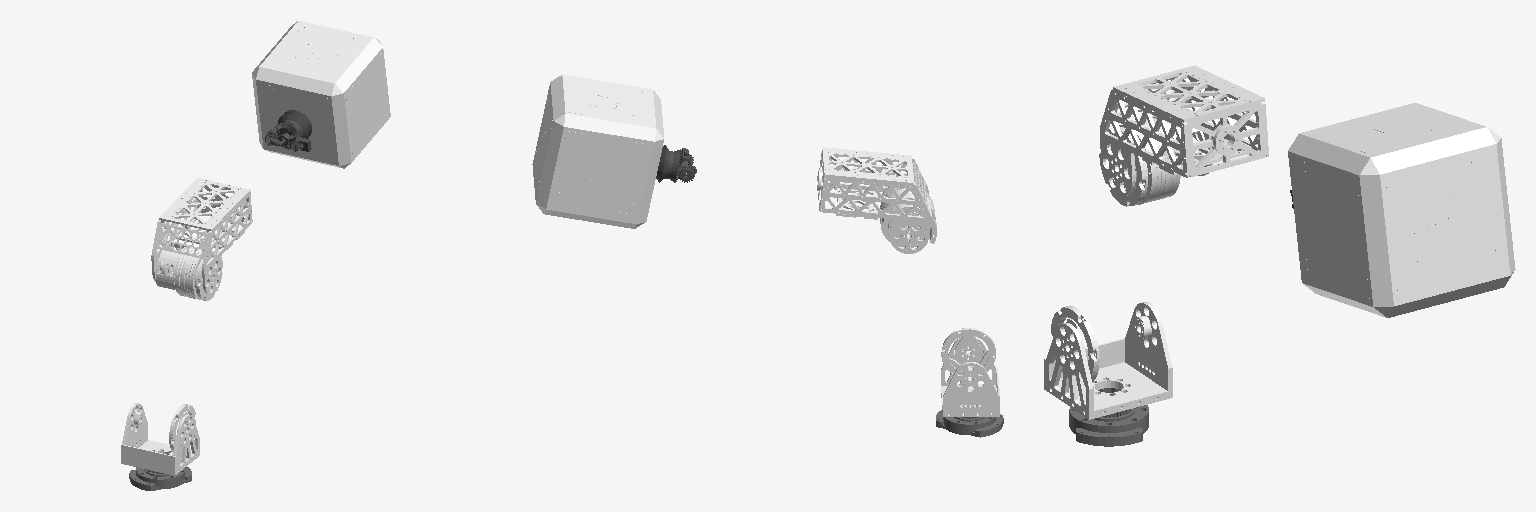
The robot description file, URDF, robot "tjurm_arm_won":
<?xml version="1.0" encoding="utf-8"?>
<!-- This URDF was automatically created by SolidWorks to URDF Exporter! Originally created by [author] ([email redacted]) 
     Commit Version: 1.6.0-4-g7f85cfe  Build Version: 1.6.7995.38578
     For more information, please see http://wiki.ros.org/sw_urdf_exporter -->
<robot
  name="tjurm_arm_won">
  <link
    name="base_link">
    <inertial>
      <origin
        xyz="0.00011022 0.00053417 0.012164"
        rpy="0 0 0" />
      <mass
        value="0.24508" />
      <inertia
        ixx="0.00014956"
        ixy="1.7088E-07"
        ixz="1.25E-09"
        iyy="0.00027306"
        iyz="5.4586E-08"
        izz="0.00041592" />
    </inertial>
    <visual>
      <origin
        xyz="0 0 0"
        rpy="0 0 0" />
      <geometry>
        <mesh
          filename="package://tjurm_arm_won/meshes/base_link.STL" />
      </geometry>
      <material
        name="">
        <color
          rgba="0.50196 0.50196 0.50196 1" />
      </material>
    </visual>
    <collision>
      <origin
        xyz="0 0 0"
        rpy="0 0 0" />
      <geometry>
        <mesh
          filename="package://tjurm_arm_won/meshes/base_link.STL" />
      </geometry>
    </collision>
  </link>
  <link
    name="link1">
    <inertial>
      <origin
        xyz="-0.0015821 -0.0046198 -0.046525"
        rpy="0 0 0" />
      <mass
        value="0.4841" />
      <inertia
        ixx="0.00043317"
        ixy="-3.8728E-08"
        ixz="-7.3882E-08"
        iyy="0.00053999"
        iyz="-1.9596E-07"
        izz="0.00062525" />
    </inertial>
    <visual>
      <origin
        xyz="0 0 0"
        rpy="0 0 0" />
      <geometry>
        <mesh
          filename="package://tjurm_arm_won/meshes/link1.STL" />
      </geometry>
      <material
        name="">
        <color
          rgba="1 1 1 1" />
      </material>
    </visual>
    <collision>
      <origin
        xyz="0 0 0"
        rpy="0 0 0" />
      <geometry>
        <mesh
          filename="package://tjurm_arm_won/meshes/link1.STL" />
      </geometry>
    </collision>
  </link>
  <joint
    name="joint1"
    type="revolute">
    <origin
      xyz="0 0 0.116"
      rpy="0 0 0.55928" />
    <parent
      link="base_link" />
    <child
      link="link1" />
    <axis
      xyz="0 0 1" />
    <limit
      lower="-3.14"
      upper="3.14"
      effort="100"
      velocity="1" />
  </joint>
  <link
    name="link2">
    <inertial>
      <origin
        xyz="0.036572 -0.088845 -0.0047651"
        rpy="0 0 0" />
      <mass
        value="0.96792" />
      <inertia
        ixx="0.0042639"
        ixy="0.0013774"
        ixz="-3.3091E-08"
        iyy="0.0012653"
        iyz="2.0765E-07"
        izz="0.0051304" />
    </inertial>
    <visual>
      <origin
        xyz="0 0 0"
        rpy="0 0 0" />
      <geometry>
        <mesh
          filename="package://tjurm_arm_won/meshes/link2.STL" />
      </geometry>
      <material
        name="">
        <color
          rgba="1 1 1 1" />
      </material>
    </visual>
    <collision>
      <origin
        xyz="0 0 0"
        rpy="0 0 0" />
      <geometry>
        <mesh
          filename="package://tjurm_arm_won/meshes/link2.STL" />
      </geometry>
    </collision>
  </link>
  <joint
    name="joint2"
    type="revolute">
    <origin
      xyz="0 0 0"
      rpy="-1.5708 0 0" />
    <parent
      link="link1" />
    <child
      link="link2" />
    <axis
      xyz="0 0 1" />
    <limit
      lower="-3.14"
      upper="3.14"
      effort="100"
      velocity="1" />
  </joint>
  <link
    name="link3">
    <inertial>
      <origin
        xyz="0.48342 0.20024 0.010212"
        rpy="0 0 0" />
      <mass
        value="33.889" />
      <inertia
        ixx="0.35951"
        ixy="-0.11908"
        ixz="9.1541E-08"
        iyy="0.46039"
        iyz="3.62E-07"
        izz="0.56671" />
    </inertial>
    <visual>
      <origin
        xyz="0 0 0"
        rpy="0 0 0" />
      <geometry>
        <mesh
          filename="package://tjurm_arm_won/meshes/link3.STL" />
      </geometry>
      <material
        name="">
        <color
          rgba="1 1 1 1" />
      </material>
    </visual>
    <collision>
      <origin
        xyz="0 0 0"
        rpy="0 0 0" />
      <geometry>
        <mesh
          filename="package://tjurm_arm_won/meshes/link3.STL" />
      </geometry>
    </collision>
  </link>
  <joint
    name="joint3"
    type="revolute">
    <origin
      xyz="0.10898 -0.2795 0"
      rpy="0 0 -1.5708" />
    <parent
      link="link2" />
    <child
      link="link3" />
    <axis
      xyz="0 0 1" />
    <limit
      lower="-3.14"
      upper="3.14"
      effort="100"
      velocity="1" />
  </joint>
  <link
    name="link4">
    <inertial>
      <origin
        xyz="0.010237 0.0017188 -0.14273"
        rpy="0 0 0" />
      <mass
        value="0.68146" />
      <inertia
        ixx="0.0014334"
        ixy="1.0724E-07"
        ixz="7.9375E-05"
        iyy="0.0014255"
        iyz="-2.4467E-07"
        izz="0.00033848" />
    </inertial>
    <visual>
      <origin
        xyz="0 0 0"
        rpy="0 0 0" />
      <geometry>
        <mesh
          filename="package://tjurm_arm_won/meshes/link4.STL" />
      </geometry>
      <material
        name="">
        <color
          rgba="1 1 1 1" />
      </material>
    </visual>
    <collision>
      <origin
        xyz="0 0 0"
        rpy="0 0 0" />
      <geometry>
        <mesh
          filename="package://tjurm_arm_won/meshes/link4.STL" />
      </geometry>
    </collision>
  </link>
  <joint
    name="joint4"
    type="revolute">
    <origin
      xyz="0.11398 0.39403 0"
      rpy="-1.5708 0 -0.19427" />
    <parent
      link="link3" />
    <child
      link="link4" />
    <axis
      xyz="0 0 1" />
    <limit
      lower="-3.14"
      upper="3.14"
      effort="100"
      velocity="1" />
  </joint>
  <link
    name="link5">
    <inertial>
      <origin
        xyz="2.931E-05 -0.0271 0.002163"
        rpy="0 0 0" />
      <mass
        value="0.29207" />
      <inertia
        ixx="7.0217E-05"
        ixy="-5.6893E-08"
        ixz="1.7329E-08"
        iyy="0.00011046"
        iyz="7.4078E-08"
        izz="6.7984E-05" />
    </inertial>
    <visual>
      <origin
        xyz="0 0 0"
        rpy="0 0 0" />
      <geometry>
        <mesh
          filename="package://tjurm_arm_won/meshes/link5.STL" />
      </geometry>
      <material
        name="">
        <color
          rgba="0.37255 0.37255 0.37255 1" />
      </material>
    </visual>
    <collision>
      <origin
        xyz="0 0 0"
        rpy="0 0 0" />
      <geometry>
        <mesh
          filename="package://tjurm_arm_won/meshes/link5.STL" />
      </geometry>
    </collision>
  </link>
  <joint
    name="joint5"
    type="revolute">
    <origin
      xyz="0 0 0"
      rpy="-1.5708 0 0" />
    <parent
      link="link4" />
    <child
      link="link5" />
    <axis
      xyz="0 0 1" />
    <limit
      lower="-3.14"
      upper="3.14"
      effort="100"
      velocity="1" />
  </joint>
  <link
    name="link6">
    <inertial>
      <origin
        xyz="0.0029253 4.8597E-05 0.11575"
        rpy="0 0 0" />
      <mass
        value="7.6366" />
      <inertia
        ixx="0.048445"
        ixy="-9.6208E-11"
        ixz="1.3674E-06"
        iyy="0.048461"
        iyz="-2.3383E-08"
        izz="0.048449" />
    </inertial>
    <visual>
      <origin
        xyz="0 0 0"
        rpy="0 0 0" />
      <geometry>
        <mesh
          filename="package://tjurm_arm_won/meshes/link6.STL" />
      </geometry>
      <material
        name="">
        <color
          rgba="1 1 1 1" />
      </material>
    </visual>
    <collision>
      <origin
        xyz="0 0 0"
        rpy="0 0 0" />
      <geometry>
        <mesh
          filename="package://tjurm_arm_won/meshes/link6.STL" />
      </geometry>
    </collision>
  </link>
  <joint
    name="joint6"
    type="revolute">
    <origin
      xyz="0 -0.042454 0"
      rpy="1.5708 0 0" />
    <parent
      link="link5" />
    <child
      link="link6" />
    <axis
      xyz="0 0 1" />
    <limit
      lower="-3.14"
      upper="3.14"
      effort="100"
      velocity="1" />
  </joint>
</robot>

--- Render facts (derived) ---
The picture shows the robot from 3 angles, left to right: view 1: azimuth 30°, elevation 25°; view 2: azimuth 150°, elevation 25°; view 3: azimuth 270°, elevation 25°; orthographic projection.
Model tjurm_arm_won with 7 links and 6 joints (6 revolute), rooted at base_link, posed every joint at zero.
Links seen in each view (by area): view 1: link6, link3, link1, link5, base_link; view 2: link6, link3, link1, base_link, link5; view 3: link6, link3, link1, base_link.
Link boxes in pixels (x1=…): link6: x1=252, y1=21, x2=390, y2=168; link3: x1=151, y1=178, x2=252, y2=300; link1: x1=121, y1=403, x2=199, y2=475; link5: x1=265, y1=110, x2=311, y2=151; base_link: x1=129, y1=451, x2=191, y2=490; link6: x1=532, y1=74, x2=663, y2=228; link3: x1=817, y1=147, x2=936, y2=253; link1: x1=941, y1=328, x2=999, y2=416; base_link: x1=936, y1=410, x2=1003, y2=437; link5: x1=656, y1=145, x2=696, y2=182; link6: x1=1288, y1=103, x2=1515, y2=317; link3: x1=1099, y1=65, x2=1268, y2=206; link1: x1=1044, y1=302, x2=1172, y2=419; base_link: x1=1069, y1=388, x2=1148, y2=446.
Bounding box of the posed robot: 0.7727 × 0.562 × 0.6578 m (x, y, z).
Meshes: 7 distinct files referenced, 5 mesh visuals loaded (5 binary STL); not drawn: 2 (reference not matched to a file when rendering).
